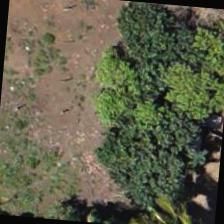Kelapa_Sawit: (142, 175, 218, 223)
